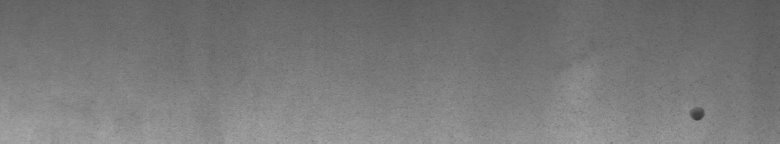fi: (684, 100, 711, 128)
